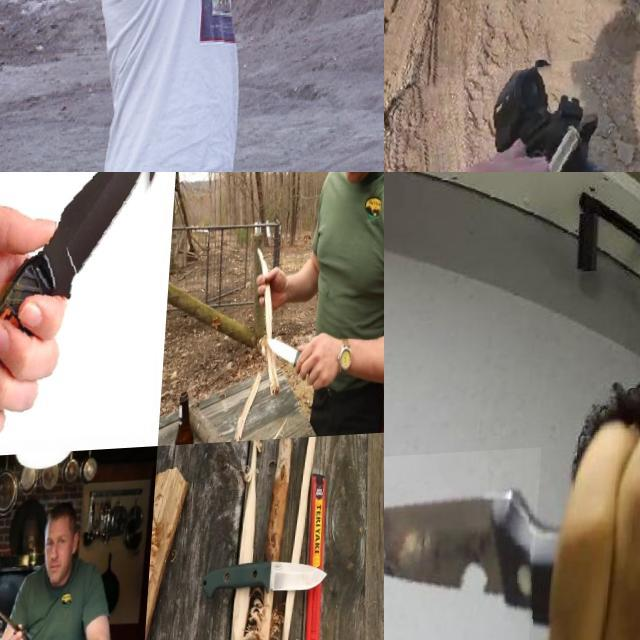-: (0, 172, 170, 448), (384, 453, 546, 640), (262, 332, 334, 402), (255, 560, 343, 604), (0, 591, 39, 640)
gun-knife-thesis - v11 Yolov5 augmented: (384, 60, 640, 172)
